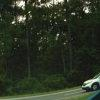Tree: (20, 4, 100, 71)
